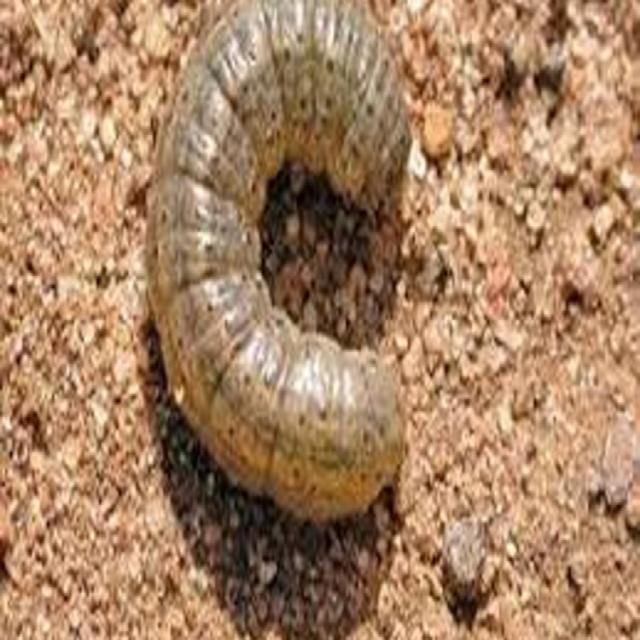worm: (143, 1, 415, 529)
